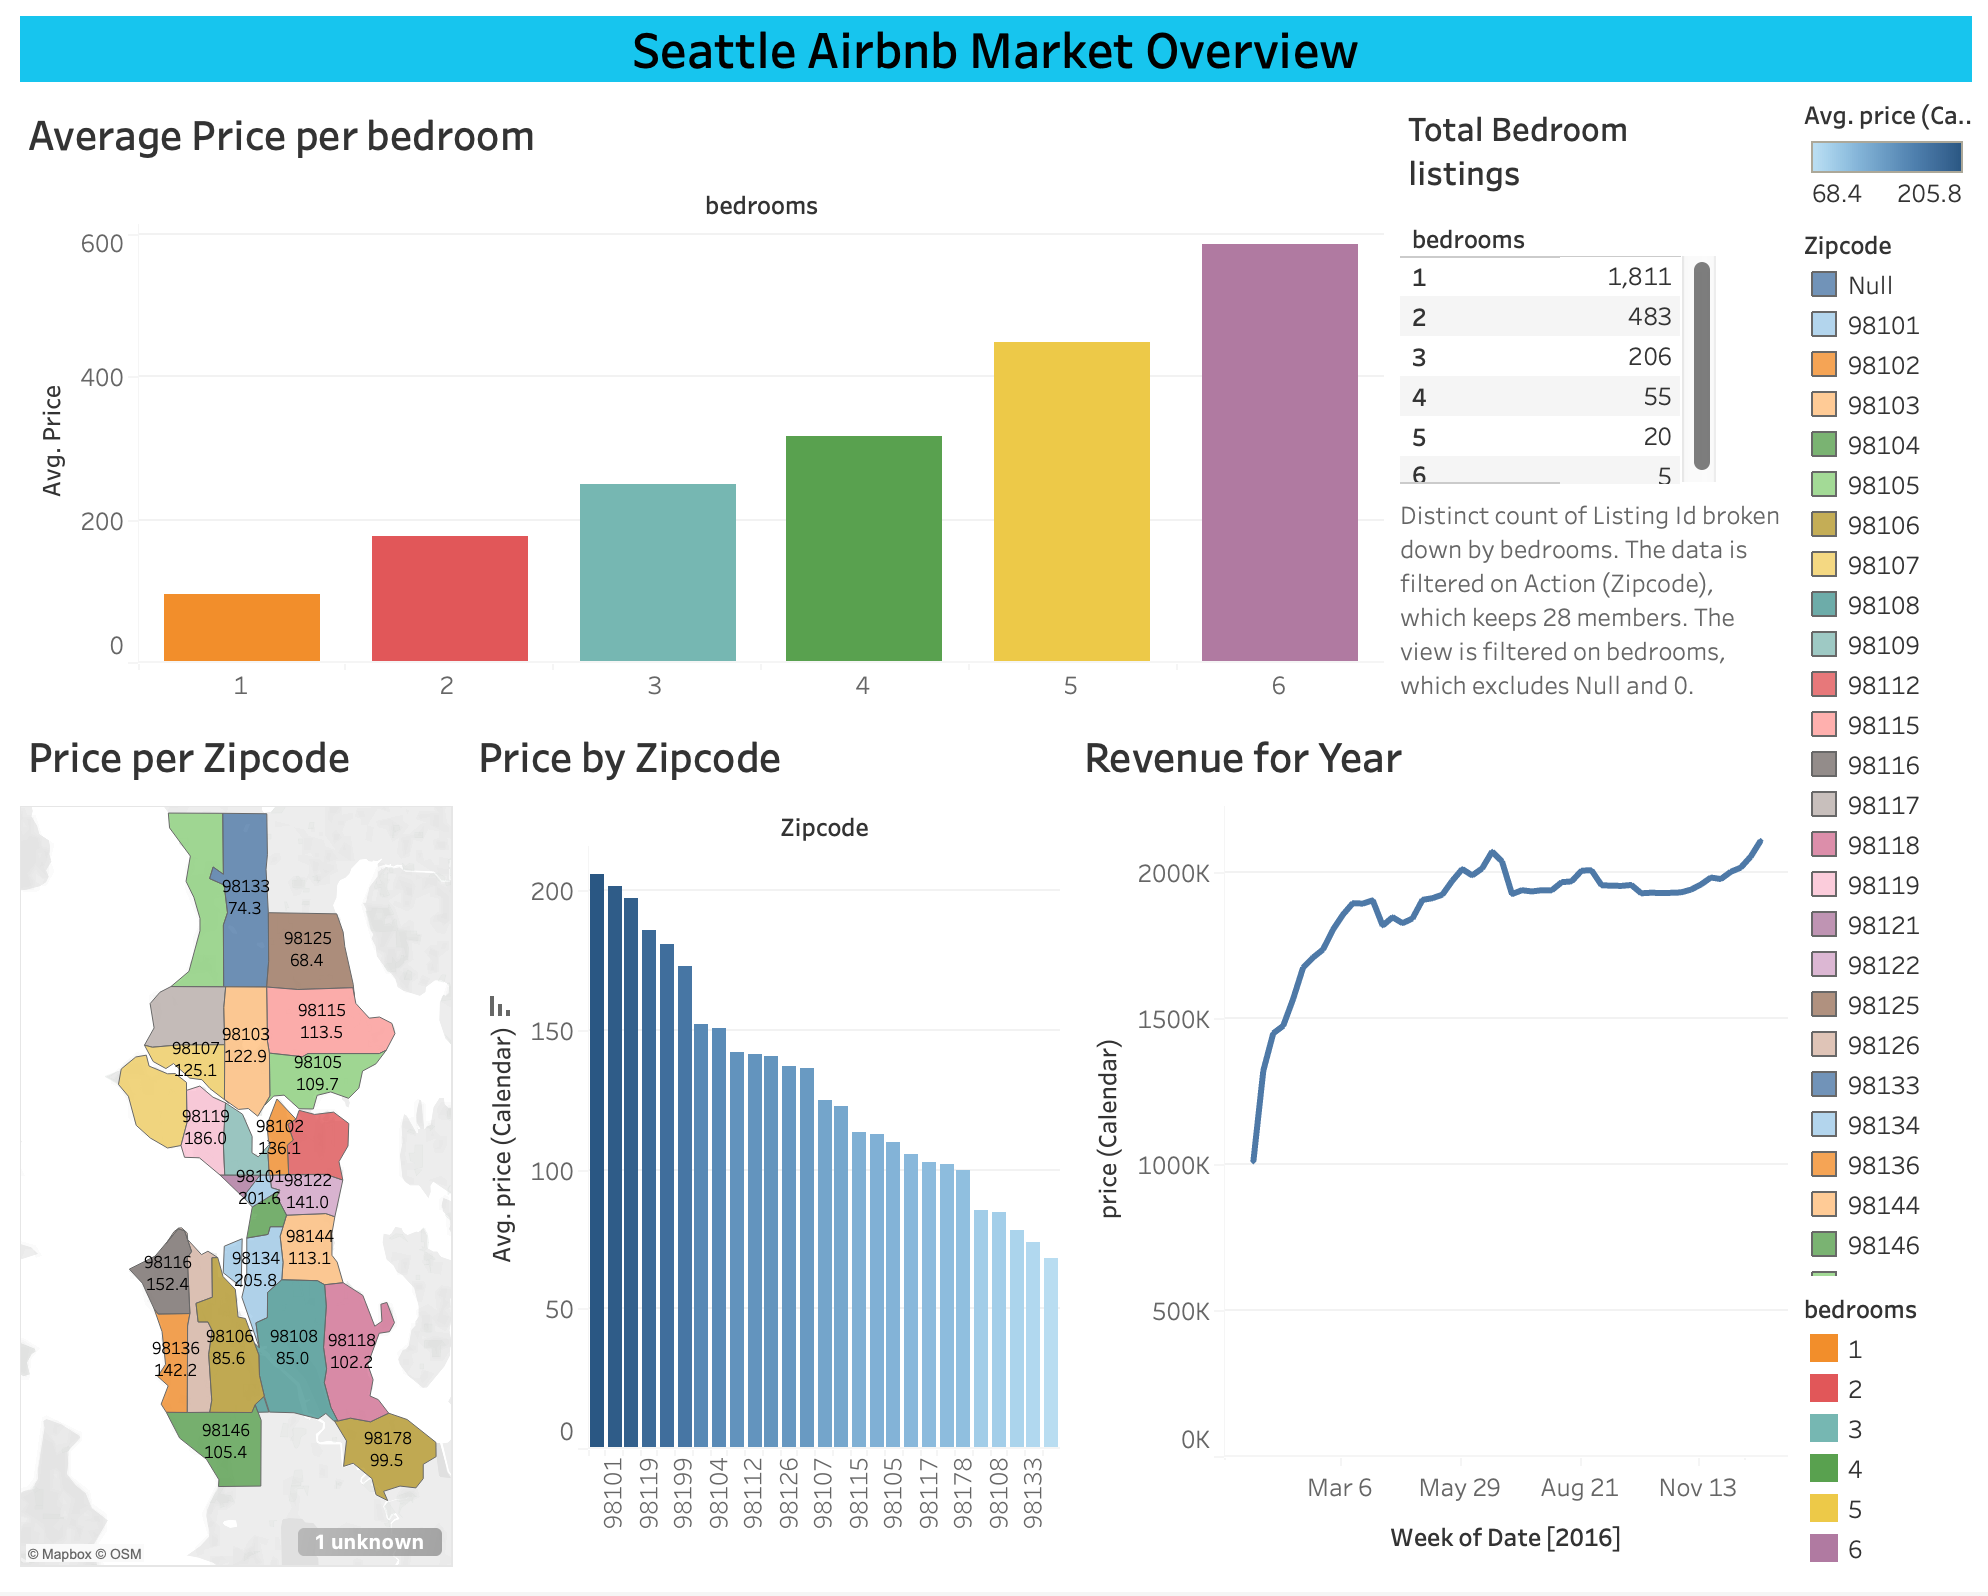

Layout of this report page (visuals, bound fields, positions):
{"tool":"tableau","page":{"name":"Dashboard 1","canvas":[1000,800],"ordinal":0},"visuals":[{"type":"title","box":[8,8,984,41]},{"type":"worksheet","title":"Sheet 4","mark":"Automatic","rows":["price"],"cols":["bedrooms"],"box":[8,49,689.6,310.8]},{"type":"worksheet","title":"Sheet 5","mark":"Automatic","rows":["bedrooms"],"box":[697.6,49,202.4,310.8]},{"type":"legend","title":"Sheet 1","param":"[federated.0jzblwh1uo8atv1fbvxu002ejn38].[avg:price (Calendar):qk]","box":[900,49,92,65]},{"type":"legend","title":"Sheet 2","param":"[federated.0jzblwh1uo8atv1fbvxu002ejn38].[none:zipcode:ok]","box":[900,114,92,512]},{"type":"worksheet","title":"Sheet 2","mark":"Multipolygon","box":[8,359.8,225,432.2]},{"type":"worksheet","title":"Sheet 1","mark":"Automatic","rows":["price (Calendar)"],"cols":["zipcode"],"box":[233,359.8,303,432.2]},{"type":"worksheet","title":"Sheet 3","mark":"Automatic","rows":["price (Calendar)"],"cols":["date"],"box":[536,359.8,364,432.2]},{"type":"legend","title":"Sheet 4","param":"[federated.0jzblwh1uo8atv1fbvxu002ejn38].[none:bedrooms:ok]","box":[900,626,92,166]}]}

Visuals, with their boxes in screenshot pixels (x1, y1, x2, y2), scaled from the page's 1000x800 canvas onto the 1988x1596 screenshot:
title: region(16, 16, 1972, 98)
"Sheet 4" worksheet: region(16, 98, 1387, 718)
"Sheet 5" worksheet: region(1387, 98, 1789, 718)
"Sheet 1" legend: region(1789, 98, 1972, 227)
"Sheet 2" legend: region(1789, 227, 1972, 1249)
"Sheet 2" worksheet (Multipolygon marks): region(16, 718, 463, 1580)
"Sheet 1" worksheet: region(463, 718, 1066, 1580)
"Sheet 3" worksheet: region(1066, 718, 1789, 1580)
"Sheet 4" legend: region(1789, 1249, 1972, 1580)
